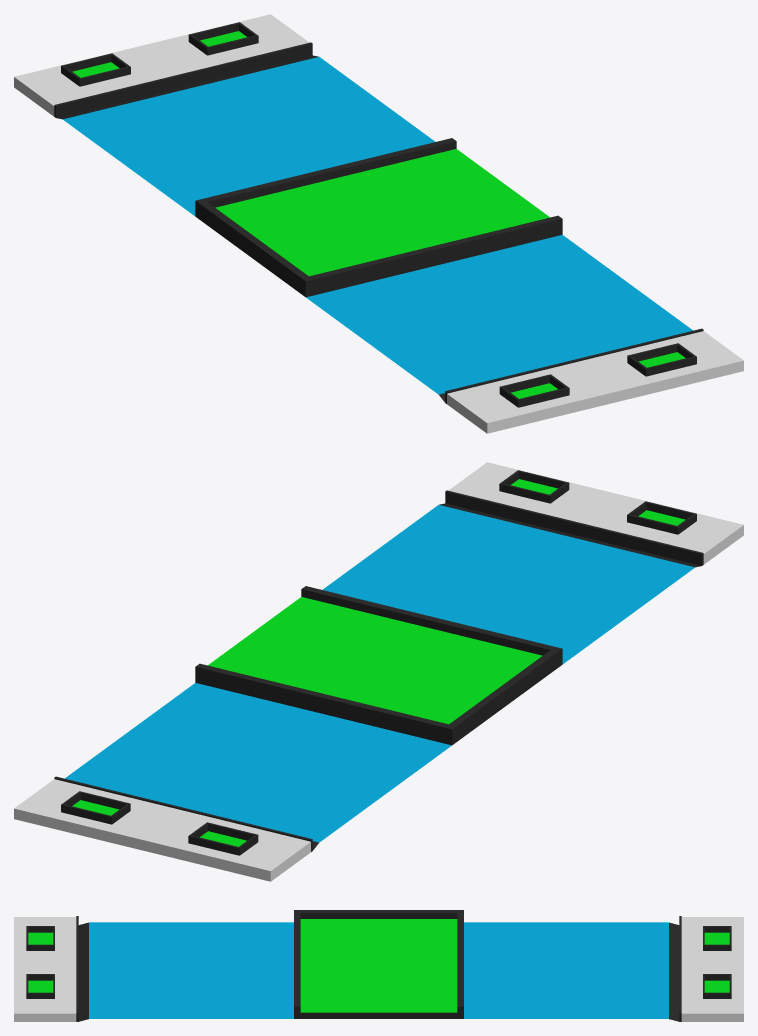
File: Road _2f.fbx
3 renders of one model, top to bottom at view 1: azimuth 30°, elevation 25°; view 2: azimuth 150°, elevation 25°; view 3: azimuth 270°, elevation 25°, orthographic. The views are drawn at different scales.
Visible parts, largest first — view 1: Cube; view 2: Cube; view 3: Cube.
Boxes of the visible parts, left/top/right/bottom form: Cube: left=14, top=14, right=743, bottom=433; Cube: left=14, top=462, right=743, bottom=881; Cube: left=14, top=910, right=743, bottom=1021.
Bounding box in the file's own units: 1284 × 402 × 29.31.
